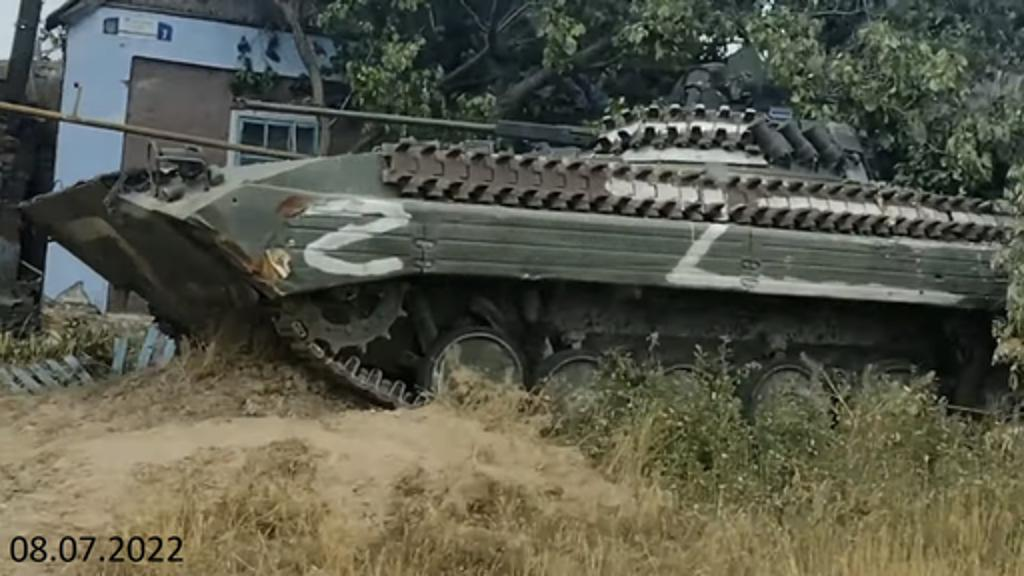APC-IFV: (0, 88, 1018, 426)
